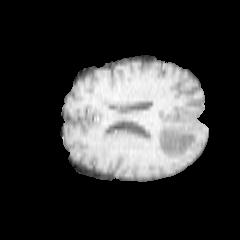glioma: (144, 127, 199, 158)
